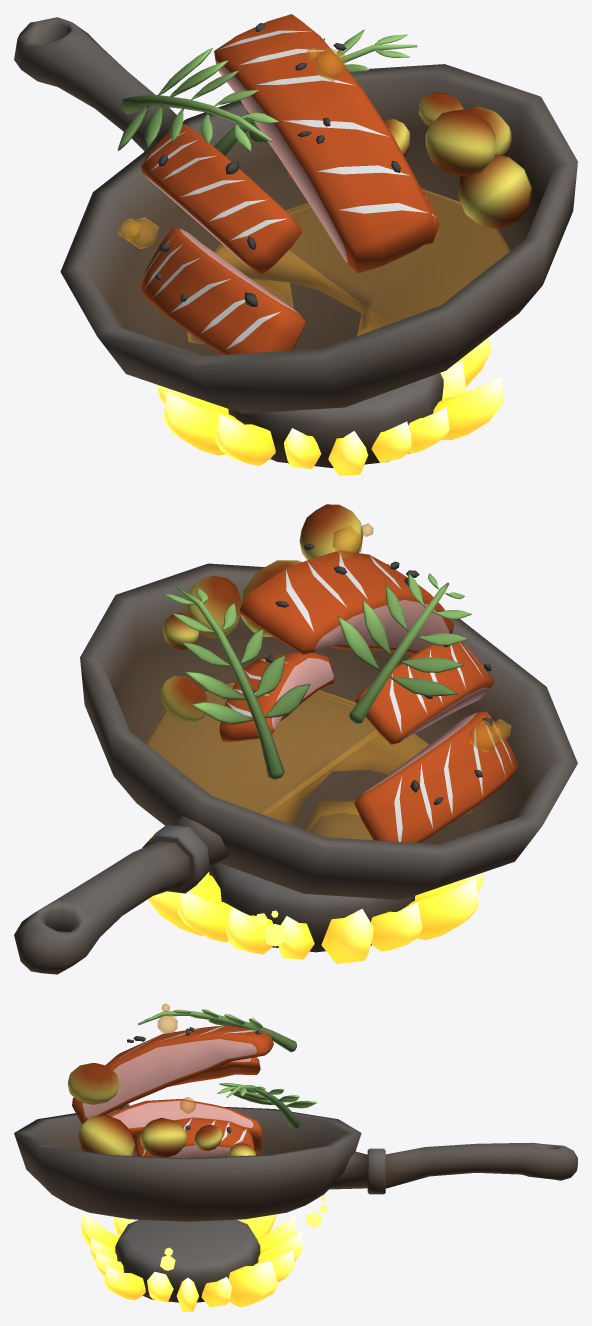
Rendered from 3december_2021_day_9_cooking.glb.
3 renders of one model, top to bottom at view 1: azimuth 30°, elevation 25°; view 2: azimuth 150°, elevation 25°; view 3: azimuth 270°, elevation 25°, orthographic. The views are drawn at different scales.
Visible parts, largest first — view 1: Cylinder.018; view 2: Cylinder.018; view 3: Cylinder.018.
Part boxes in pixels (box(x1,y1,x2,y2)): Cylinder.018: box(14, 14, 577, 475); Cylinder.018: box(14, 504, 577, 974); Cylinder.018: box(14, 1003, 577, 1311).
Bounding box in the file's own units: 2.46 × 2.15 × 4.14.
11 materials, 5 textured.
